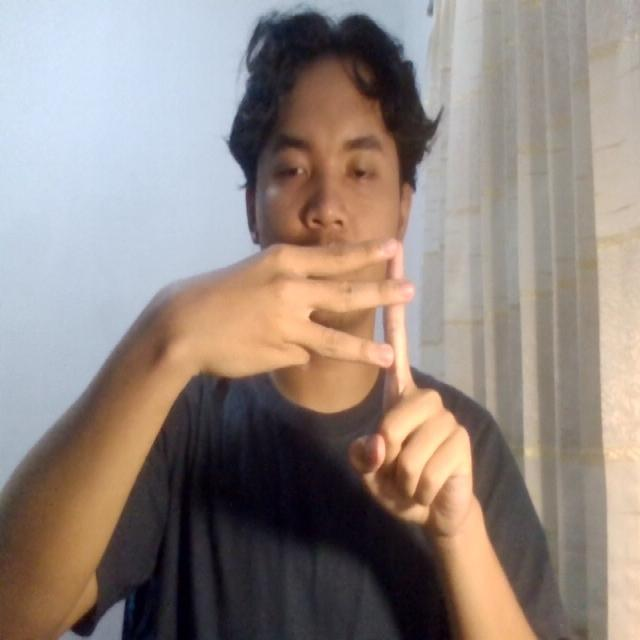B: (184, 219, 484, 557)
